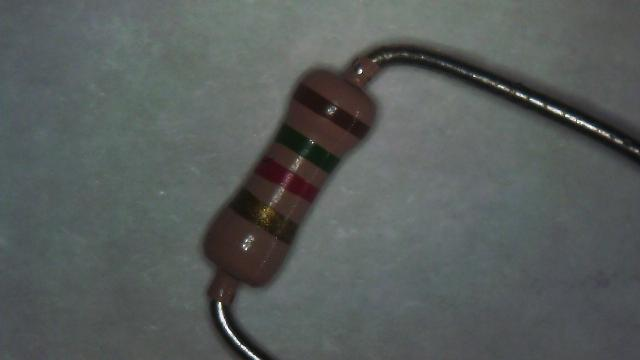brown: (294, 84, 369, 138)
gold: (230, 188, 298, 243)
green: (275, 125, 339, 174)
red: (254, 158, 319, 202)
resistor: (163, 36, 416, 316)
